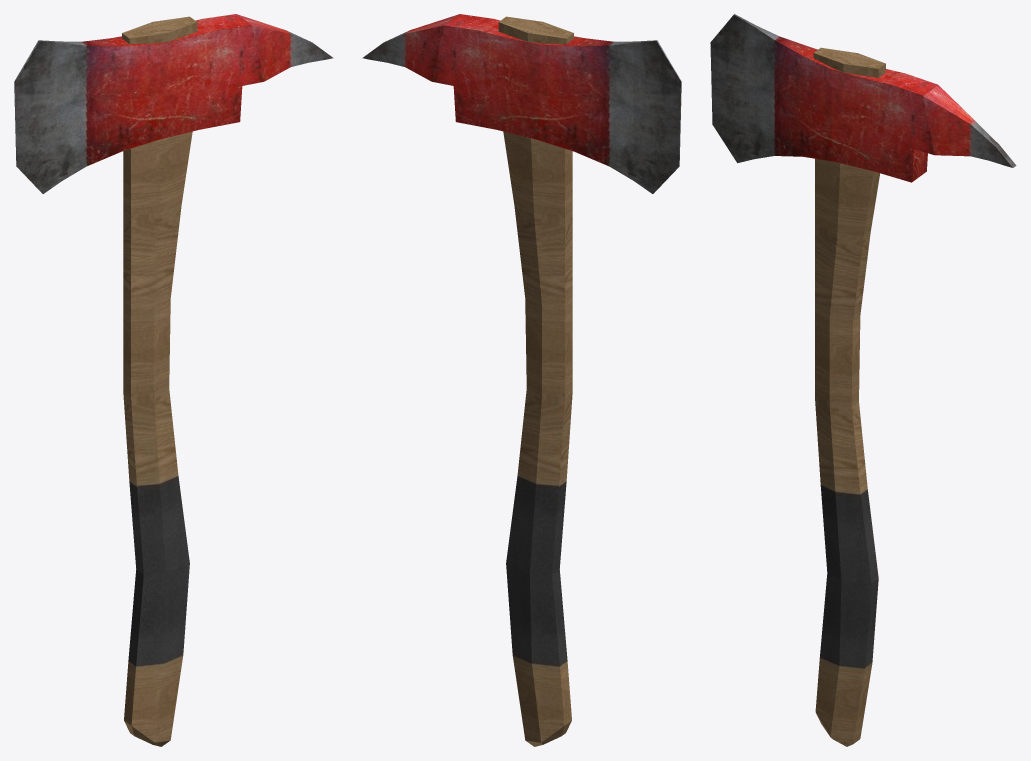
The model's file is Melee.fbx.
3 views of the same model, side by side, from view 1: azimuth 30°, elevation 25°; view 2: azimuth 150°, elevation 25°; view 3: azimuth 330°, elevation 25° (orthographic). The views are drawn at different scales.
Visible parts, largest first — view 1: Fire Axe; view 2: Fire Axe; view 3: Fire Axe.
Boxes of the visible parts, x1=… form: Fire Axe: x1=14, y1=14, x2=333, y2=746; Fire Axe: x1=362, y1=14, x2=681, y2=746; Fire Axe: x1=710, y1=14, x2=1016, y2=746.
Bounding box in the file's own units: 188 × 415 × 16.22.
Materials: 1 (1 with a texture image).
